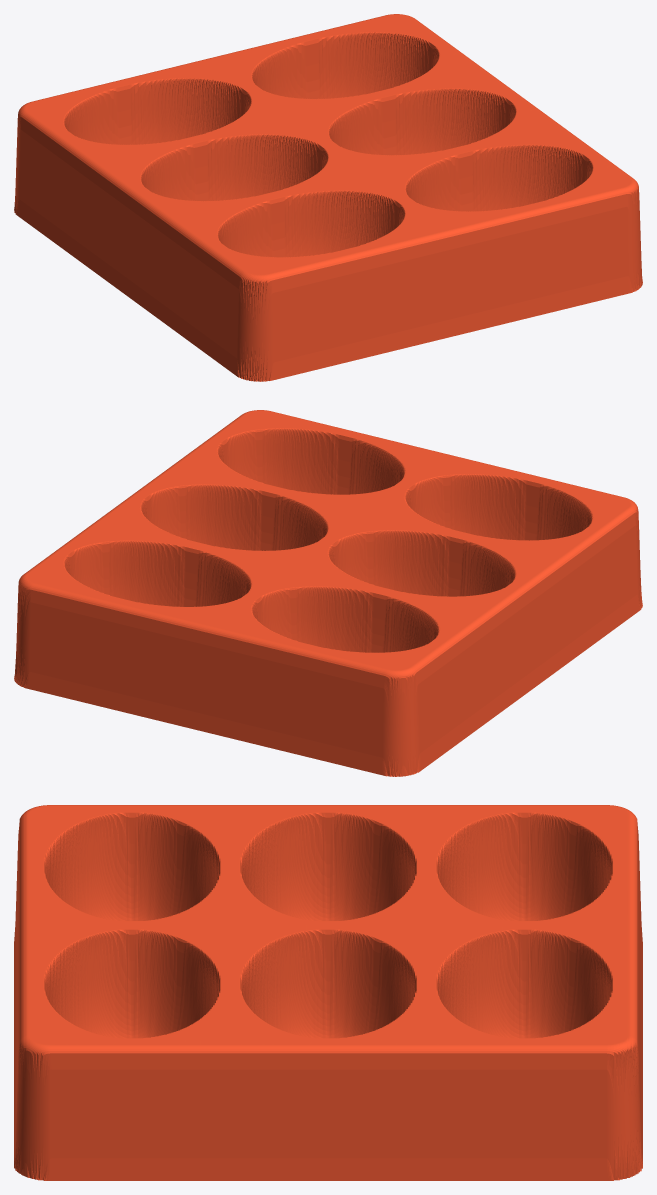
Rendered from mold.glb.
The picture shows the model from 3 angles, top to bottom: view 1: azimuth 30°, elevation 25°; view 2: azimuth 150°, elevation 25°; view 3: azimuth 270°, elevation 25°; orthographic projection. The views are drawn at different scales.
Visible parts, largest first — view 1: geometry_0; view 2: geometry_0; view 3: geometry_0.
Boxes of the visible parts, x1=… form: geometry_0: x1=14, y1=14, x2=642, y2=381; geometry_0: x1=14, y1=410, x2=642, y2=776; geometry_0: x1=14, y1=805, x2=642, y2=1180.
Size of the model in its own units: 0.1492 by 0.036 by 0.1579.
